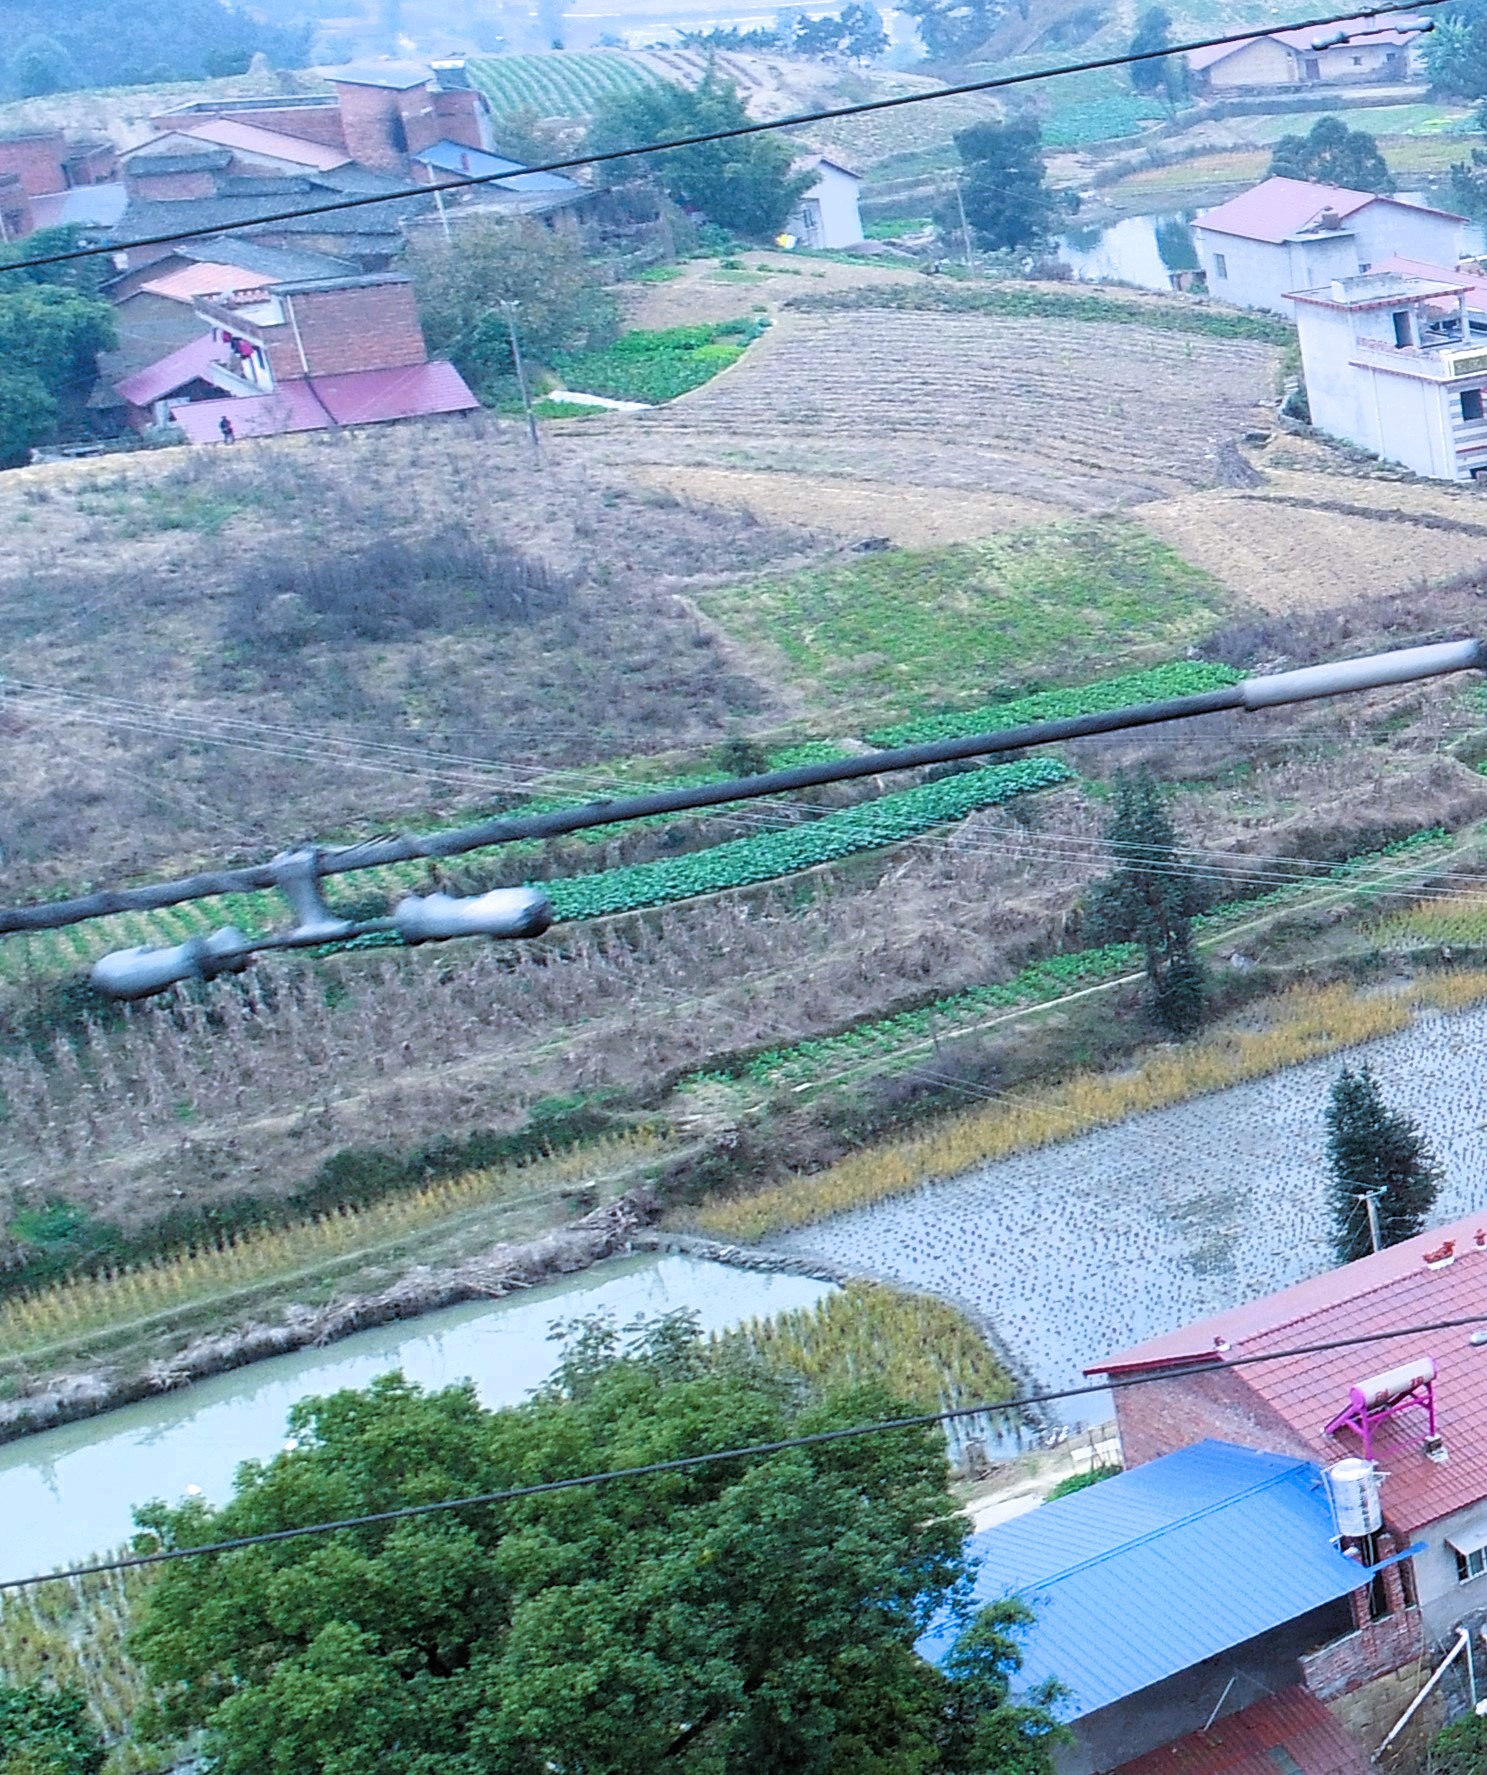Shockproof hammer: (81, 806, 574, 1015)
